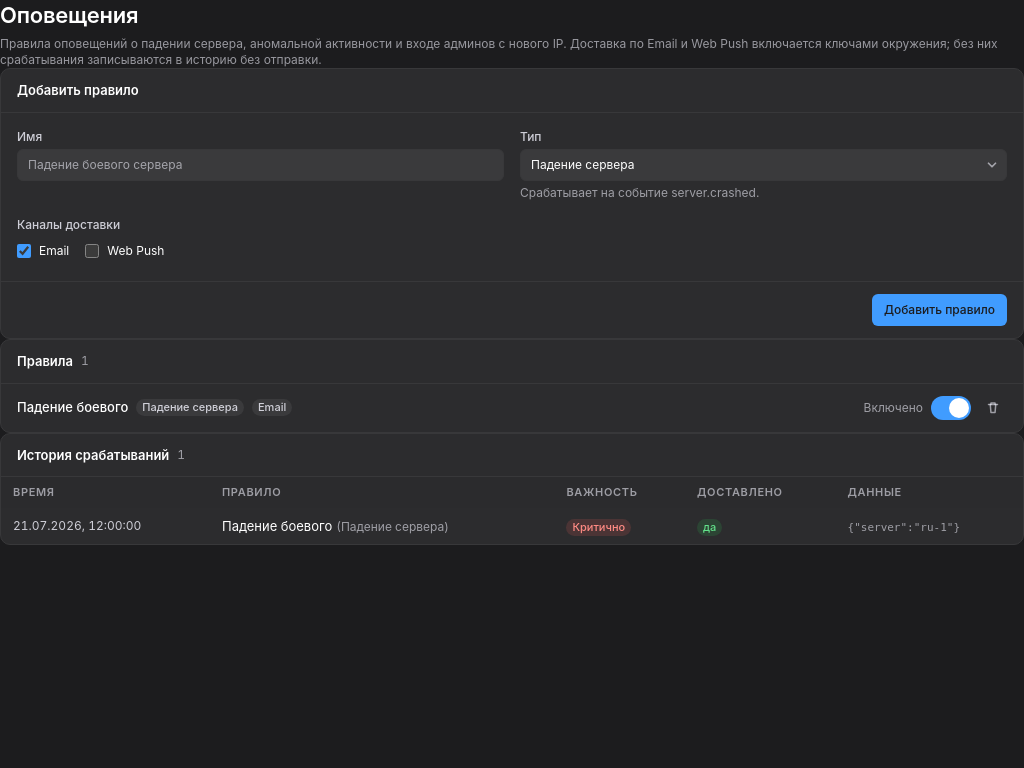
Test: AlertsPage › keeps the rule when the delete confirmation is cancelled
Click the button named "Удалить правило Падение боевого": (993, 408) [979,394,1007,422]
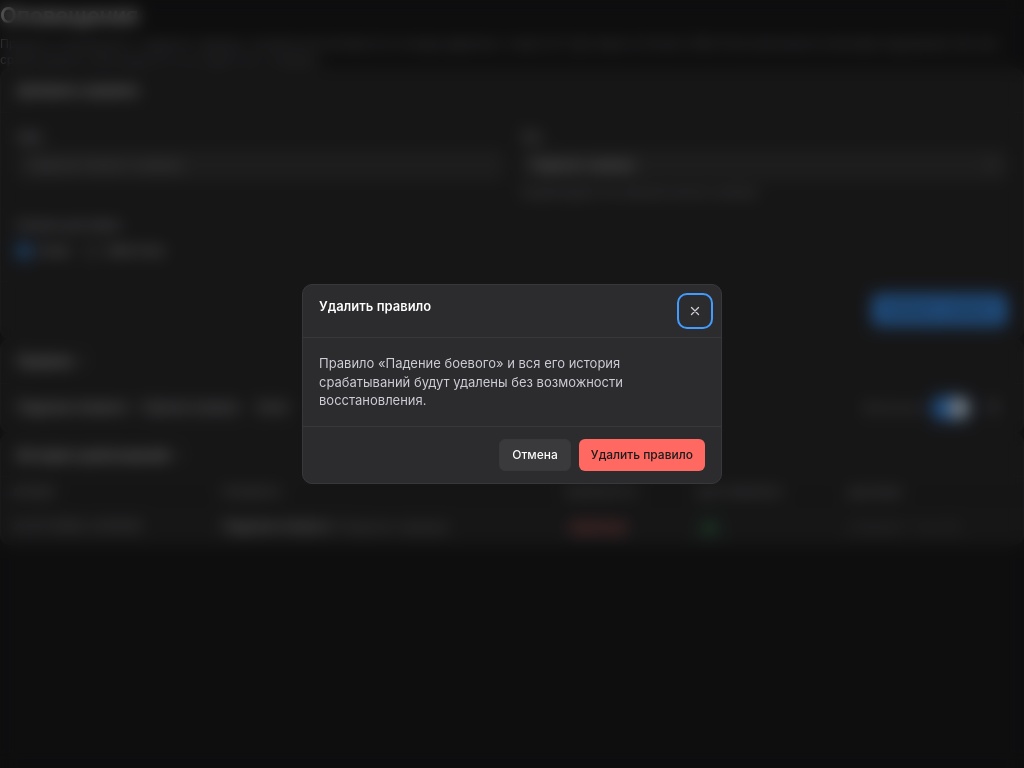
«Отмена» носят и крестик окна, и кнопка подвала — нужна вторая.
Click the button "Отмена": (535, 455) [499,439,571,471]
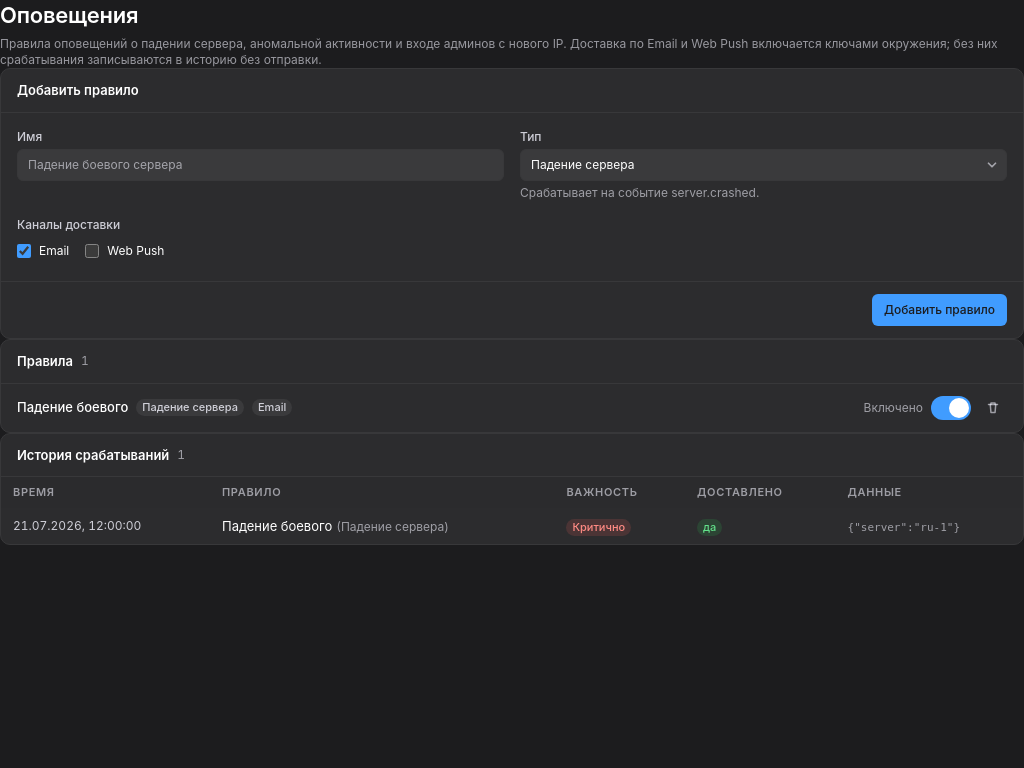
Now the dialog is gone
